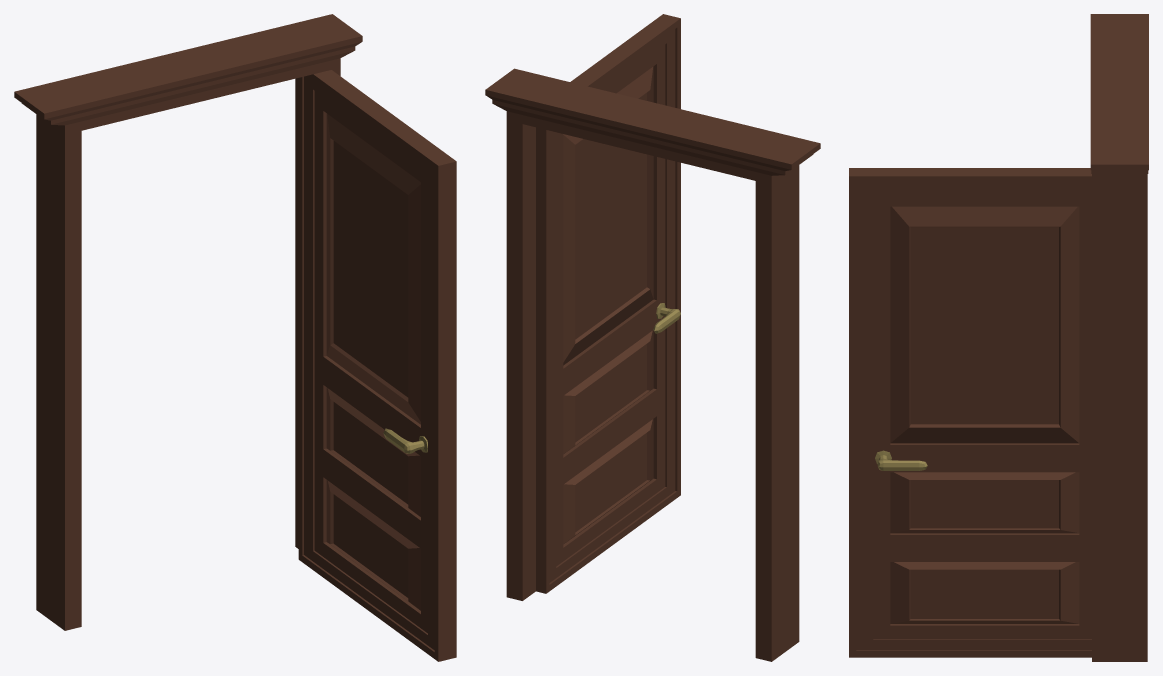
The model's file is wooden_door_opened.glb.
The picture shows the model from 3 angles, left to right: view 1: azimuth 30°, elevation 25°; view 2: azimuth 150°, elevation 25°; view 3: azimuth 270°, elevation 25°; orthographic projection. The views are drawn at different scales.
Visible parts, largest first — view 1: DoorHandle; view 2: DoorHandle; view 3: DoorHandle.
Part boxes in pixels (box(x1,y1,x2,y2)): DoorHandle: box(14, 14, 456, 661); DoorHandle: box(485, 14, 820, 661); DoorHandle: box(849, 14, 1148, 661).
Bounding box in the file's own units: 2 × 3.14 × 1.68.
